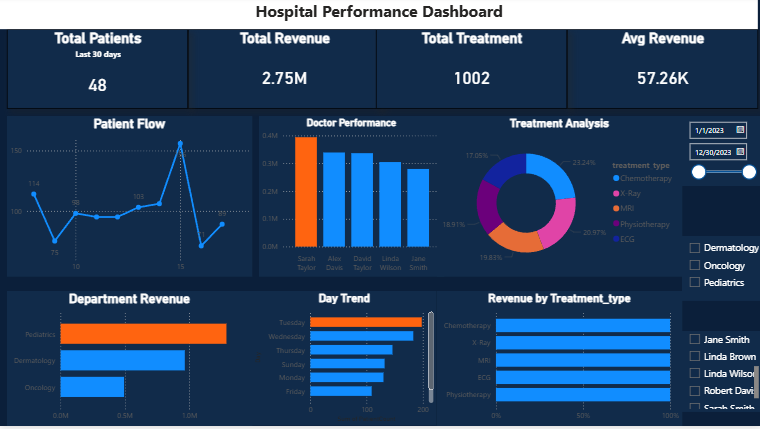

This screenshot's page, from the dashboard's own definition file:
{"tool":"powerbi","page":{"name":"Page 1","canvas":[1280,720],"ordinal":0},"visuals":[{"type":"card","title":"Total Revenue","fields":{"Values":["hospital_final.Total Revenue"]},"box":[315.8,53.8,324.2,134.4],"z":0},{"type":"card","title":"Total Patients","fields":{"Values":["hospital_final.Total Patient"]},"box":[11.8,53.8,304,134.4],"z":1},{"type":"card","title":"Avg Revenue","fields":{"Values":["hospital_final.Avg Revenue per Patient"]},"box":[952.4,53.8,320.8,134.4],"z":2},{"type":"card","title":"Total Treatment","fields":{"Values":["hospital_final.Total Treatments"]},"box":[631.6,53.8,320.8,134.4],"z":3},{"type":"lineChart","title":"Patient Flow","fields":{"Category":["time_summary.Hour"],"Y":["Sum(time_summary.PatientCount)"]},"box":[11.8,199.9,411.5,270.4],"z":4},{"type":"clusteredBarChart","title":"Department Revenue","fields":{"Category":["dept_summary.specialization"],"Y":["Sum(dept_summary.Revenue)"]},"box":[11.8,493.9,411.5,226.8],"z":5},{"type":"columnChart","title":"Doctor Performance","fields":{"Category":["doctor_summary.DoctorName"],"Y":["Sum(doctor_summary.Revenue)"]},"box":[435.1,199.9,310.8,270.4],"z":6},{"type":"clusteredBarChart","title":"Day Trend","fields":{"Category":["day_summary.Day"],"Y":["Sum(day_summary.PatientCount)"]},"box":[424,494,310,226],"z":7},{"type":"donutChart","title":"Treatment Analysis","fields":{"Category":["treatment_summary.treatment_type"],"Y":["Sum(hospital_final.TotalTreatmentCost)"]},"box":[734.1,199.9,411.5,270.4],"z":8},{"type":"hundredPercentStackedBarChart","title":"Revenue by Treatment_type","fields":{"Category":["treatment_summary.treatment_type"],"Y":["Sum(treatment_summary.Revenue)"]},"box":[734.1,493.9,411.5,226.8],"z":9},{"type":"slicer","fields":{"Values":["hospital_final.appointment_date"]},"box":[1145.6,199.9,134.4,115.9],"z":10},{"type":"slicer","fields":{"Values":["hospital_final.specialization"]},"box":[1145.6,401.5,134.4,109.2],"z":11},{"type":"slicer","fields":{"Values":["doctor_summary.DoctorName"]},"box":[1145.6,561,134.4,136.1],"z":12},{"type":"textbox","box":[0,0,1273.3,53.8],"z":13}]}

Visuals, with their boxes in screenshot pixels (x1, y1, x2, y2), scaled from the page's 1280x720 canvas onto the 760x429 screenshot:
"Total Revenue" card: <box>188,32,380,112</box>
"Total Patients" card: <box>7,32,188,112</box>
"Avg Revenue" card: <box>565,32,756,112</box>
"Total Treatment" card: <box>375,32,565,112</box>
"Patient Flow" lineChart: <box>7,119,251,280</box>
"Department Revenue" clusteredBarChart: <box>7,294,251,428</box>
"Doctor Performance" columnChart: <box>258,119,443,280</box>
"Day Trend" clusteredBarChart: <box>252,294,436,428</box>
"Treatment Analysis" donutChart: <box>436,119,680,280</box>
"Revenue by Treatment_type" hundredPercentStackedBarChart: <box>436,294,680,428</box>
slicer - hospital_final.appointment_date: <box>680,119,759,188</box>
slicer - hospital_final.specialization: <box>680,239,759,304</box>
slicer - doctor_summary.DoctorName: <box>680,334,759,415</box>
textbox: <box>0,0,756,32</box>
